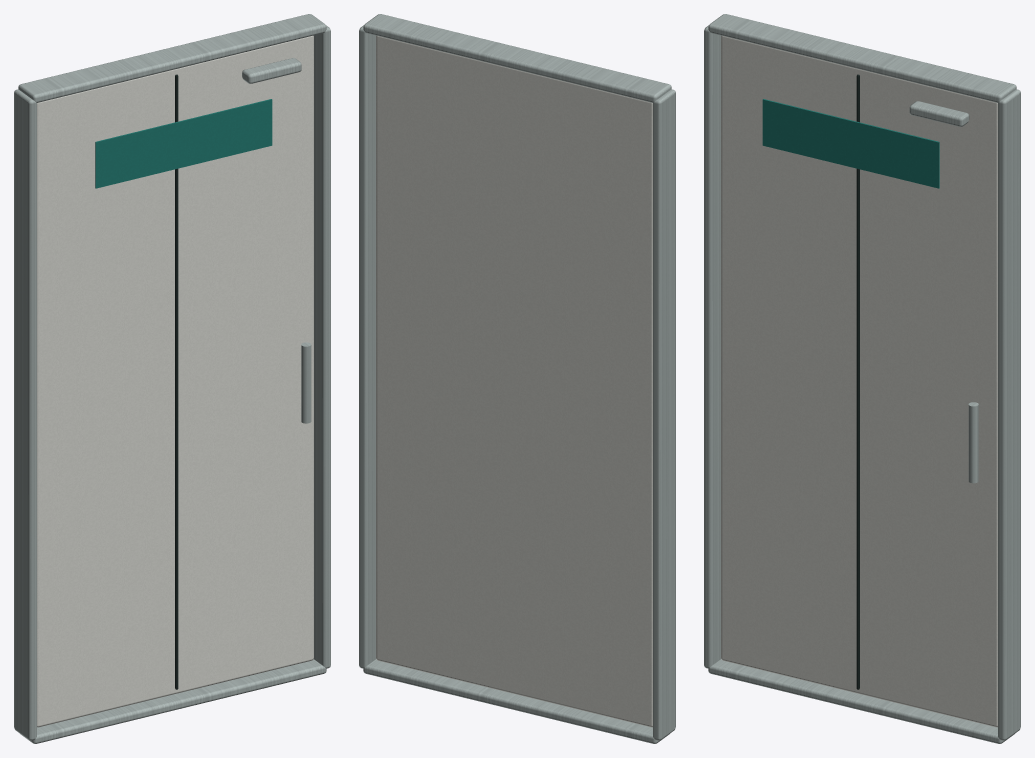
The model's file is detail-toilet-door-0.glb.
The picture shows the model from 3 angles, left to right: view 1: azimuth 30°, elevation 25°; view 2: azimuth 150°, elevation 25°; view 3: azimuth 330°, elevation 25°; orthographic projection.
Parts seen in each view (by area): view 1: door_panel, frame_side (×2), frame_rail (×2), label_room_sign, door_seam, closer, pull_handle; view 2: door_panel, frame_side (×2), frame_rail (×2); view 3: door_panel, frame_side (×2), frame_rail (×2), label_room_sign, door_seam, closer, pull_handle.
Boxes of the visible parts, x1,y1,x2,y2 form: door_panel: (37, 35, 313, 727); frame_side (×2): (14, 25, 330, 740); frame_rail (×2): (18, 14, 326, 743); label_room_sign: (95, 99, 272, 188); door_seam: (175, 74, 178, 689); closer: (242, 58, 301, 83); pull_handle: (301, 342, 311, 423); door_panel: (376, 35, 652, 727); frame_side (×2): (359, 25, 675, 740); frame_rail (×2): (363, 14, 671, 743); door_panel: (721, 35, 997, 727); frame_side (×2): (704, 25, 1020, 740); frame_rail (×2): (708, 14, 1016, 743); label_room_sign: (762, 99, 939, 188); door_seam: (856, 74, 859, 689); closer: (909, 101, 969, 126); pull_handle: (968, 402, 978, 483).
Bounding box in the file's own units: 1.24 × 2.54 × 0.17.
4 materials, 4 textured.
